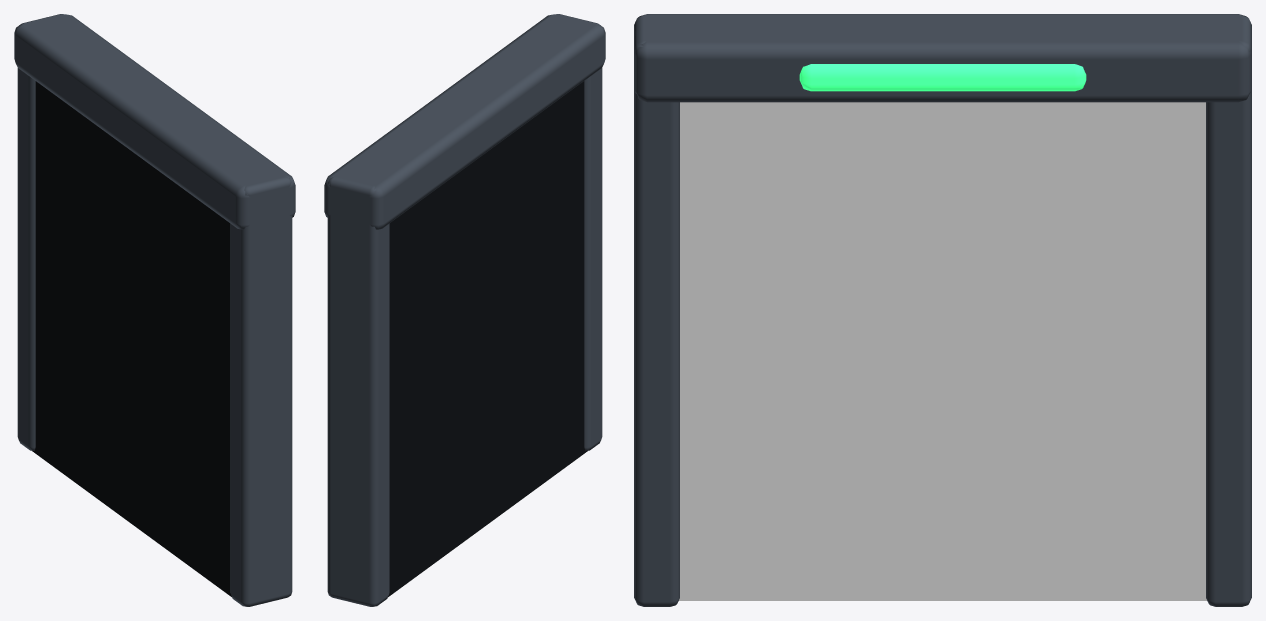
Rendered from exit-door.glb.
The picture shows the model from 3 angles, left to right: view 1: azimuth 30°, elevation 25°; view 2: azimuth 150°, elevation 25°; view 3: azimuth 270°, elevation 25°; orthographic projection. The views are drawn at different scales.
Parts seen in each view (by area): view 1: Frame; view 2: Frame; view 3: PanelL, PanelR, Frame, Lamp.
Boxes of the visible parts, bbox=[...] form: Frame: bbox=[14, 14, 295, 606]; Frame: bbox=[324, 14, 605, 606]; PanelL: bbox=[943, 102, 1206, 600]; PanelR: bbox=[679, 102, 942, 600]; Frame: bbox=[634, 14, 1251, 606]; Lamp: bbox=[799, 64, 1086, 91].
Size of the model in its own units: 0.155 by 0.95 by 0.94.
